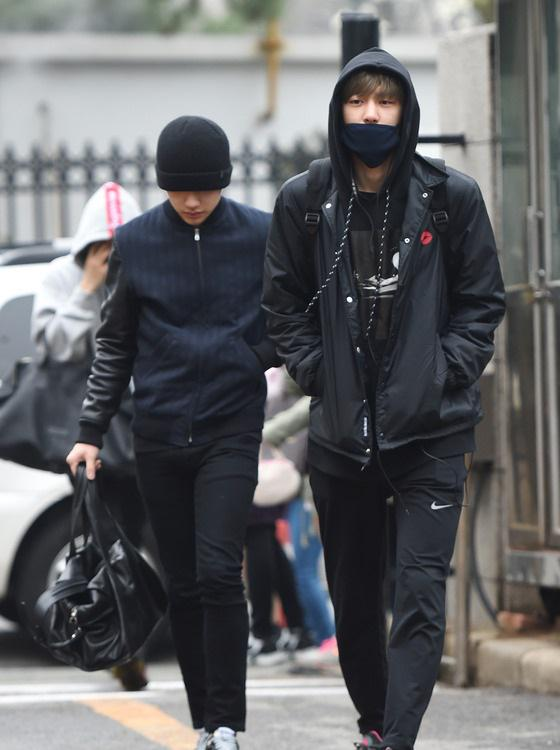NONE: (168, 171, 227, 228)
WRONG: (337, 84, 408, 158)
